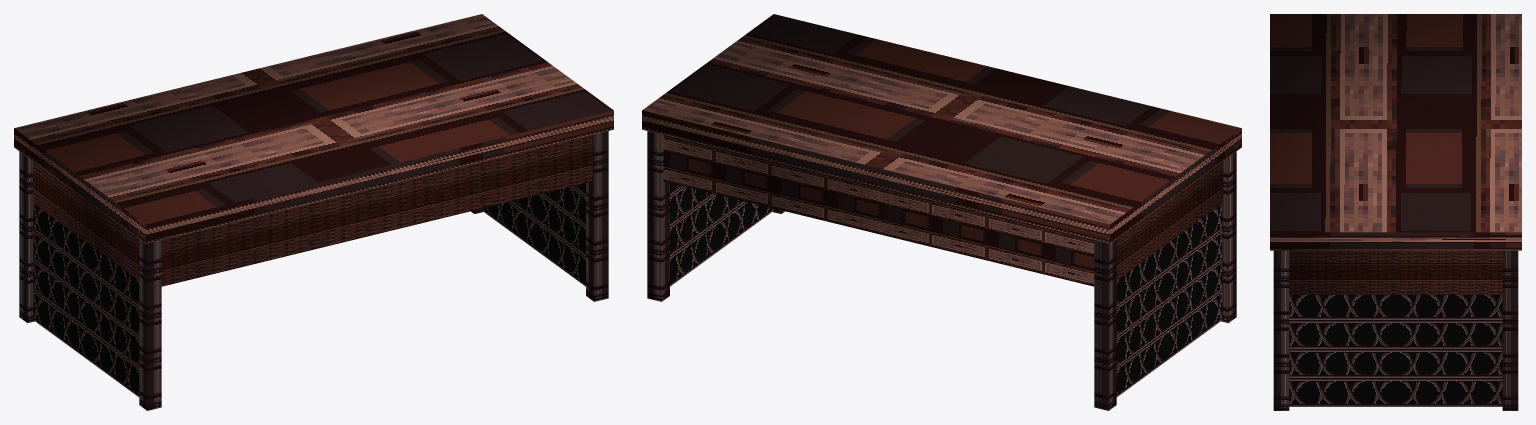
Rendered from 3054IMRL03_05.gltf.
3 views of the same model, side by side, from view 1: azimuth 30°, elevation 25°; view 2: azimuth 150°, elevation 25°; view 3: azimuth 270°, elevation 25° (orthographic). The views are drawn at different scales.
Parts seen in each view (by area): view 1: 3054IMRL03_05; view 2: 3054IMRL03_05; view 3: 3054IMRL03_05.
Part boxes in pixels (box(x1,y1,x2,y2)): 3054IMRL03_05: box(14, 14, 613, 410); 3054IMRL03_05: box(642, 14, 1241, 410); 3054IMRL03_05: box(1270, 14, 1521, 410).
Bounding box in the file's own units: 1.95 × 0.7507 × 0.9502.
Materials: 4 (4 with a texture image).
